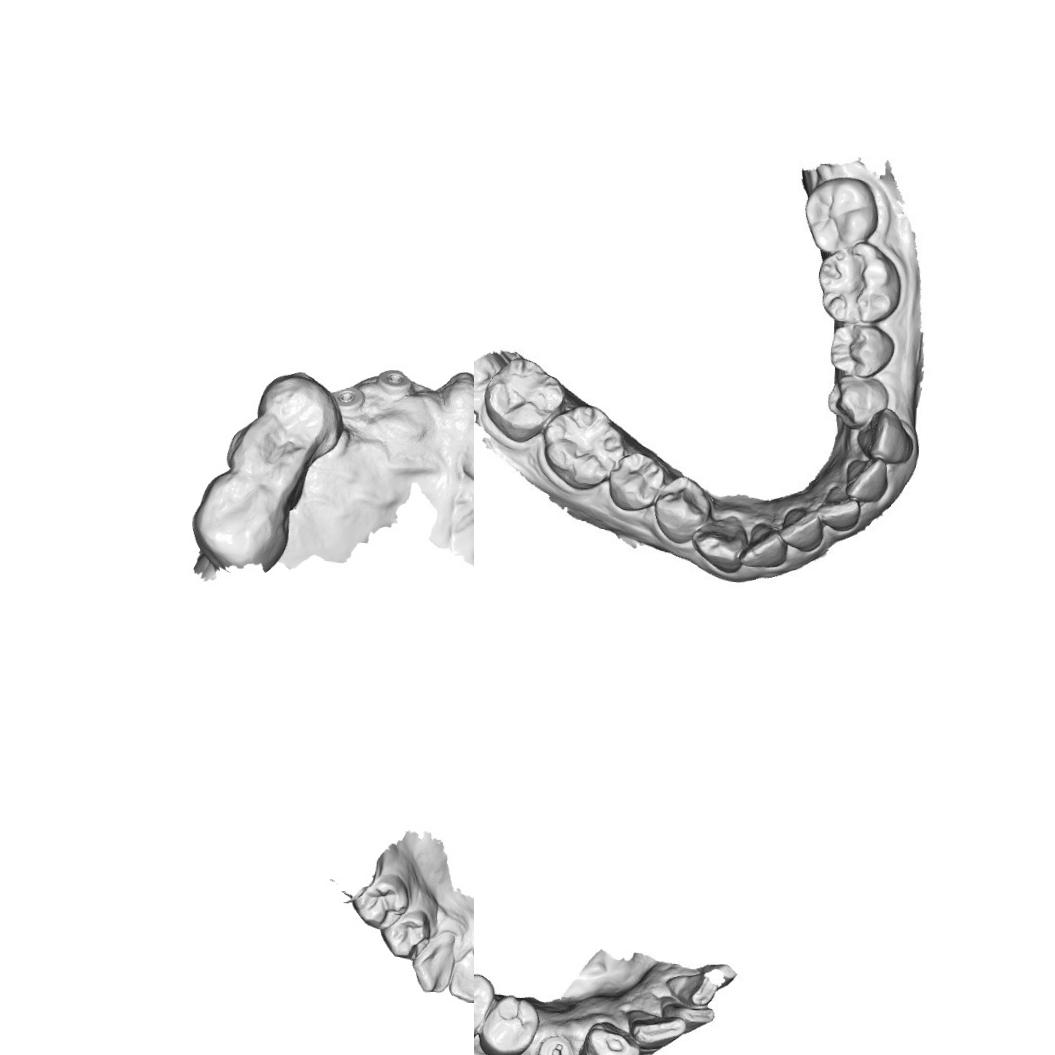canine: (858, 404, 918, 466), (692, 514, 748, 572), (409, 932, 453, 994), (584, 1018, 641, 1055)
implant: (373, 365, 414, 398), (328, 382, 366, 412)
implant_minus: (533, 1030, 579, 1055)
incisor: (844, 456, 895, 509), (779, 503, 832, 553), (624, 1006, 682, 1050), (663, 964, 720, 1008), (742, 524, 786, 572), (818, 492, 864, 535), (662, 996, 714, 1032), (447, 957, 474, 1004)
molar: (188, 470, 294, 576), (480, 356, 559, 438), (543, 404, 626, 479), (818, 244, 898, 319), (805, 178, 882, 250), (474, 958, 490, 1047)
premolar: (253, 366, 347, 450), (218, 414, 310, 497), (824, 320, 893, 380), (477, 989, 539, 1055), (348, 870, 411, 932), (650, 480, 709, 540), (606, 452, 662, 509), (825, 372, 888, 422), (378, 907, 432, 960)
